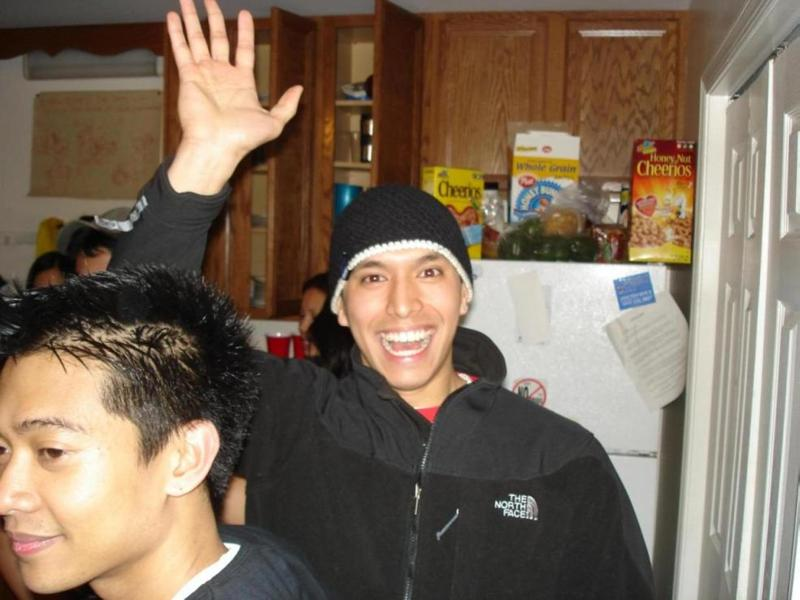person: (101, 1, 653, 600)
